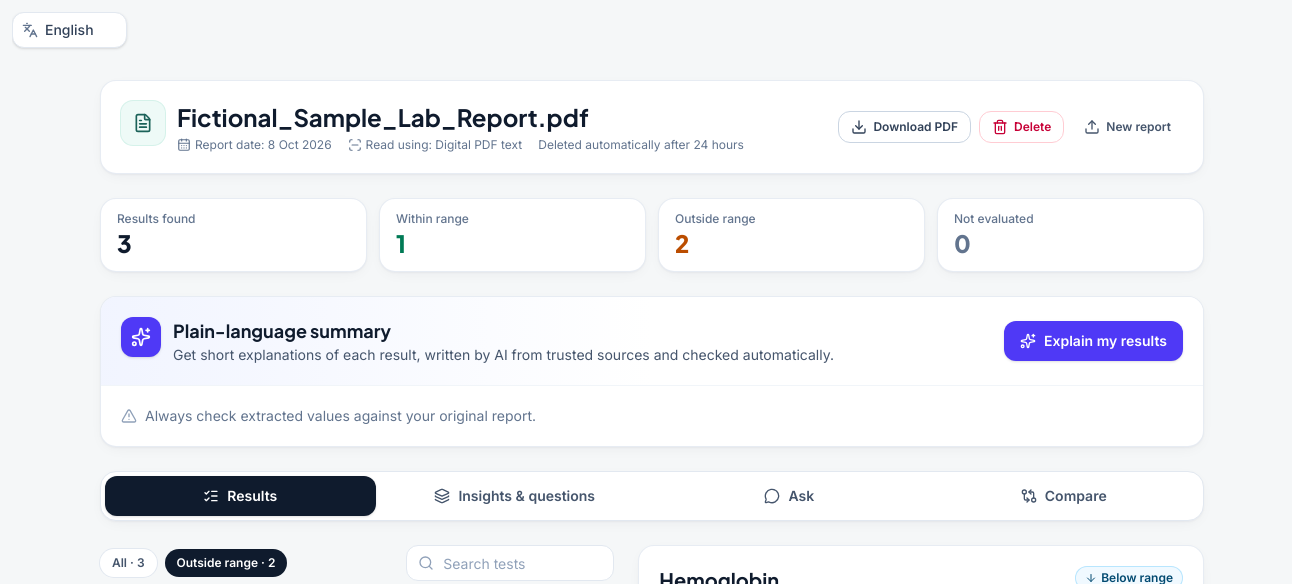
it: report dashboard › switching language translates the UI and re-requests explanations in that language
Click the button "Explain my results": click(1094, 341) [1004,321,1183,361]
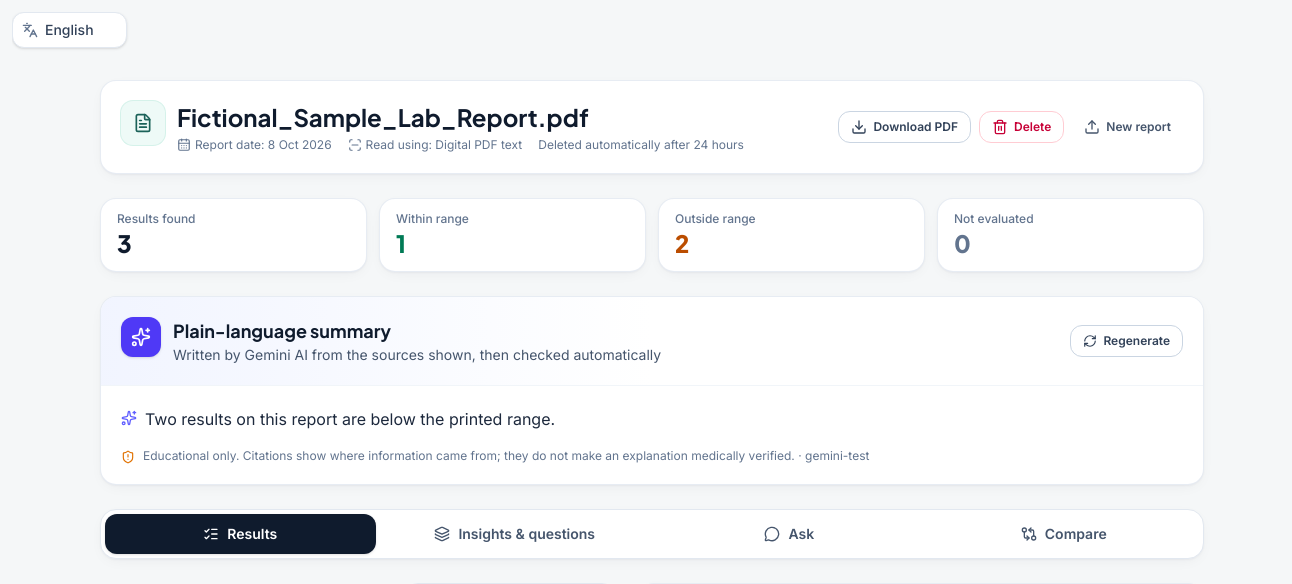
Expected: the text "Two results on this report are below the printed range." is shown, [145,406,555,432]
Select "हिन्दी" in the dropdown named "Language": (70, 30) [12,12,127,48]
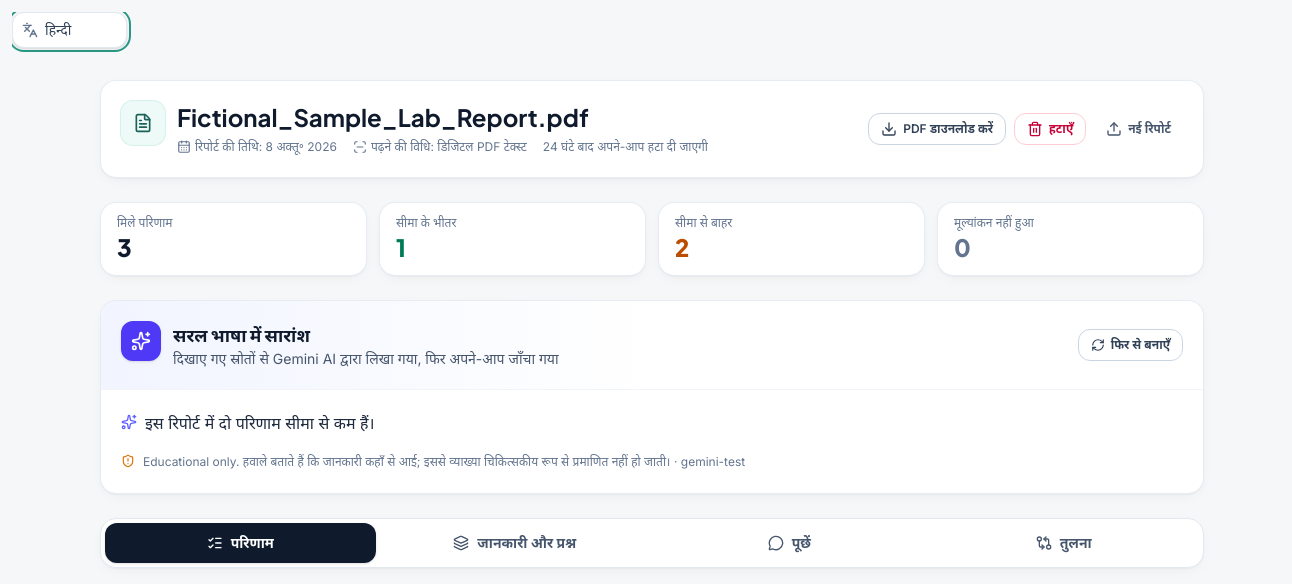
Expected: the text "इस रिपोर्ट में दो परिणाम सीमा से कम हैं।" is shown, [145,410,375,436]
Expected: the tab "परिणाम" is shown, [105,523,376,563]
